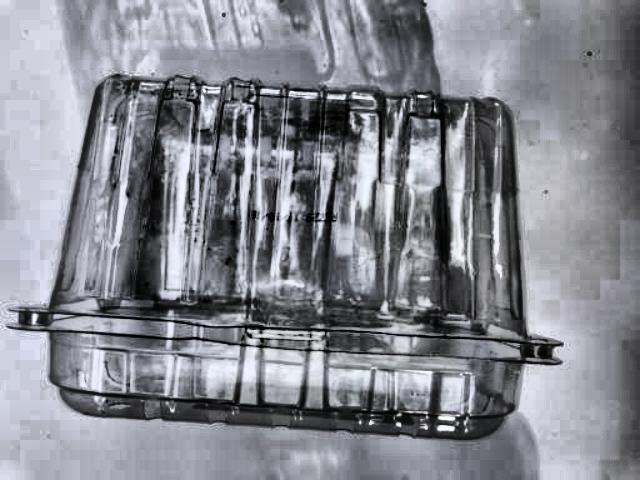Plastic: (9, 11, 553, 445)
